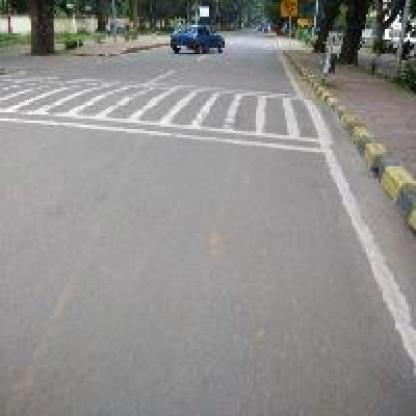Speed Bump: (2, 77, 325, 154)
